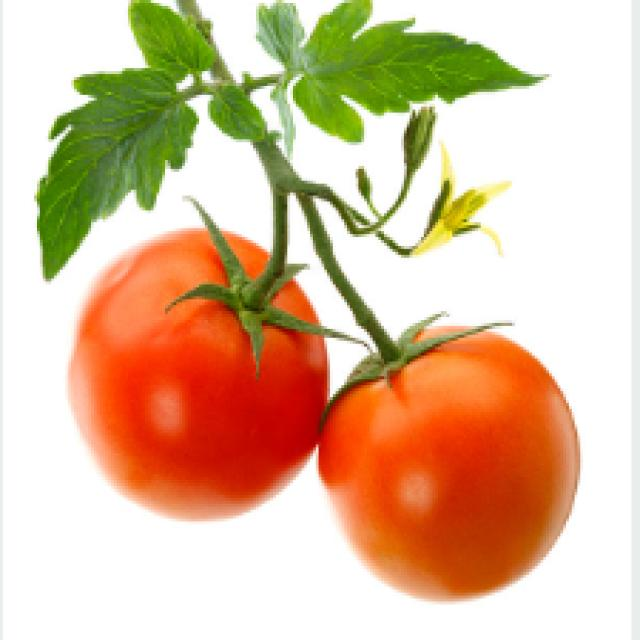Tomato: (73, 219, 336, 542), (303, 334, 572, 590)
